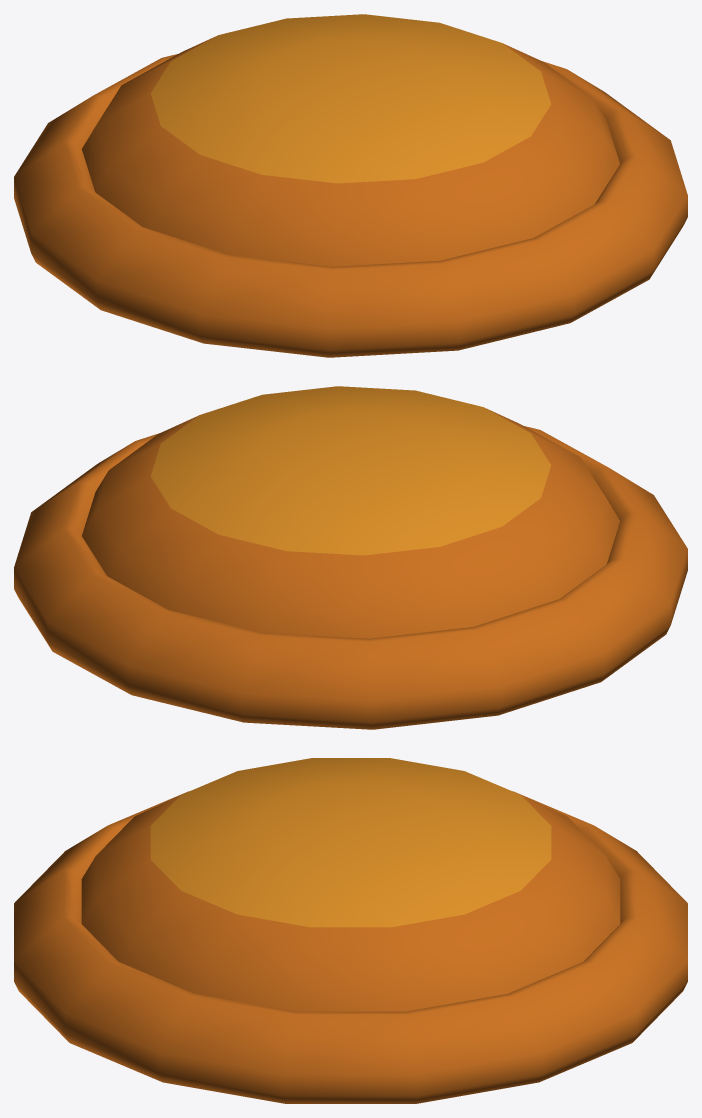
File: itch_tiny_pleasant_picnic_frisbee.glb
3 renders of one model, top to bottom at view 1: azimuth 30°, elevation 25°; view 2: azimuth 150°, elevation 25°; view 3: azimuth 270°, elevation 25°, orthographic.
Visible parts, largest first — view 1: frisbee; view 2: frisbee; view 3: frisbee.
Part boxes in pixels (x1,y1,x2,y2): frisbee: (14,14,687,357); frisbee: (14,386,687,729); frisbee: (14,758,687,1103).
Size of the model in its own units: 0.42 by 0.1025 by 0.42.
